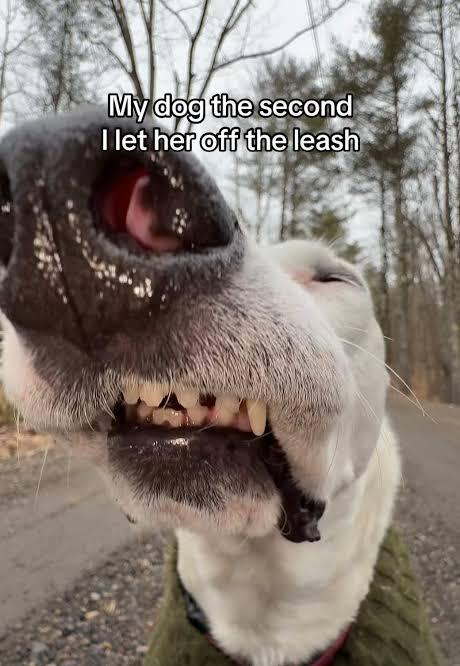adult_dog: (0, 105, 443, 666)
